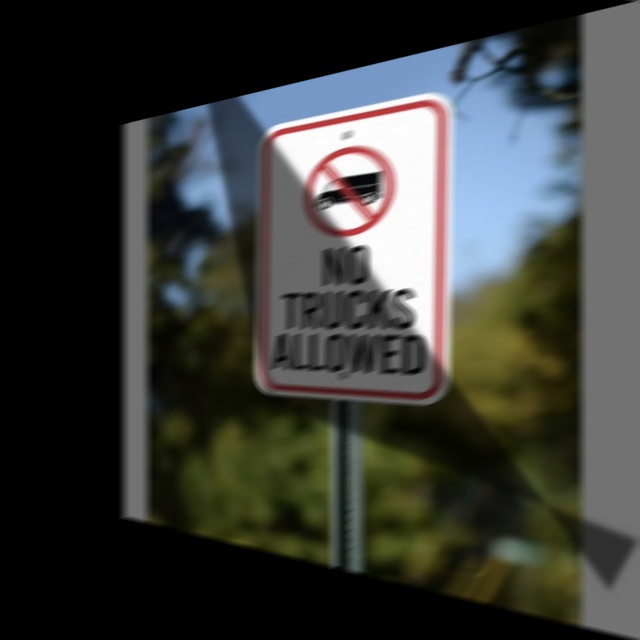Truck_Prohibited: (290, 122, 427, 246)
